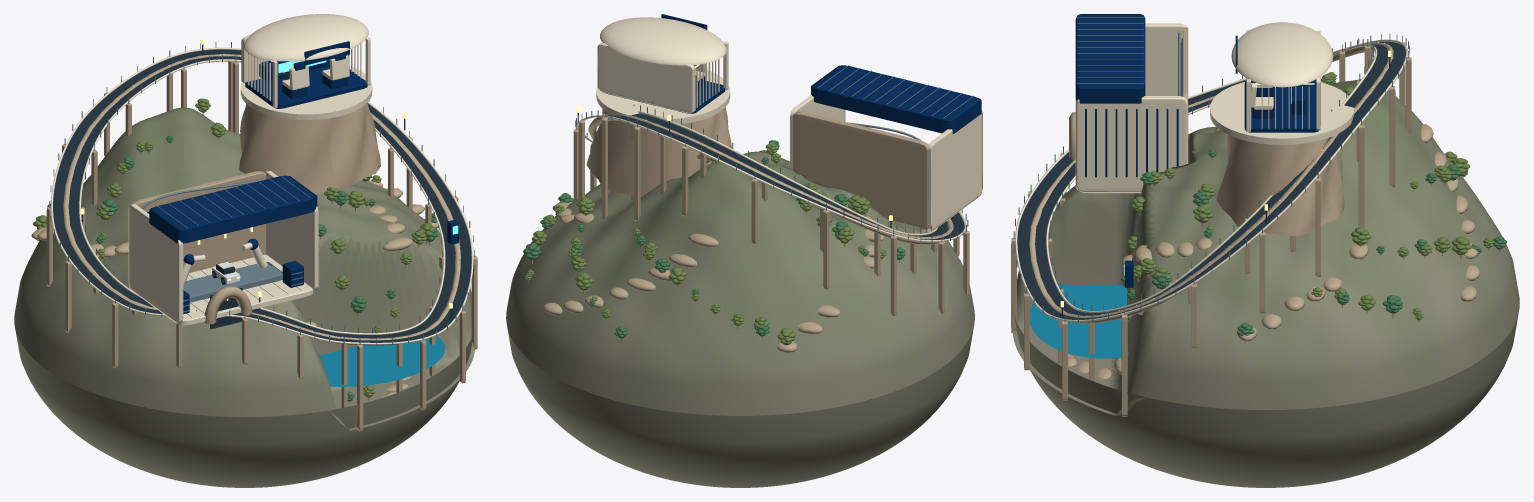
File: hyundai.glb
3 views of the same model, side by side, from view 1: azimuth 30°, elevation 25°; view 2: azimuth 150°, elevation 25°; view 3: azimuth 270°, elevation 25° (orthographic). The views are drawn at different scales.
Visible parts, largest first — view 1: coastal_layered_terrain, limestone, ivory, graphite, Hyundai_Blue_002C5F, steel, water, coastal_olive, foliage; view 2: coastal_layered_terrain, limestone, ivory, Hyundai_Blue_002C5F, coastal_olive, graphite, foliage, steel; view 3: coastal_layered_terrain, ivory, limestone, Hyundai_Blue_002C5F, graphite, water, coastal_olive, steel, foliage.
Boxes of the visible parts, x1,y1,x2,y2 form: coastal_layered_terrain: [14, 107, 474, 487]; limestone: [31, 53, 477, 431]; ivory: [51, 14, 473, 344]; graphite: [53, 44, 471, 342]; Hyundai_Blue_002C5F: [147, 41, 458, 313]; steel: [49, 42, 474, 345]; water: [319, 336, 445, 386]; coastal_olive: [33, 98, 434, 397]; foliage: [47, 135, 438, 401]; coastal_layered_terrain: [506, 151, 974, 487]; limestone: [542, 107, 969, 352]; ivory: [577, 17, 982, 242]; Hyundai_Blue_002C5F: [602, 14, 981, 133]; coastal_olive: [524, 142, 886, 345]; graphite: [577, 75, 964, 239]; foliage: [523, 140, 905, 338]; steel: [575, 65, 973, 242]; coastal_layered_terrain: [1012, 79, 1519, 487]; ivory: [1015, 22, 1408, 322]; limestone: [1011, 27, 1480, 416]; Hyundai_Blue_002C5F: [1075, 14, 1318, 287]; graphite: [1017, 41, 1405, 319]; water: [1030, 284, 1128, 358]; coastal_olive: [1125, 72, 1494, 323]; steel: [1013, 17, 1409, 322]; foliage: [1121, 77, 1507, 335].
Bounding box in the file's own units: 18.9 × 18.62 × 18.96.
